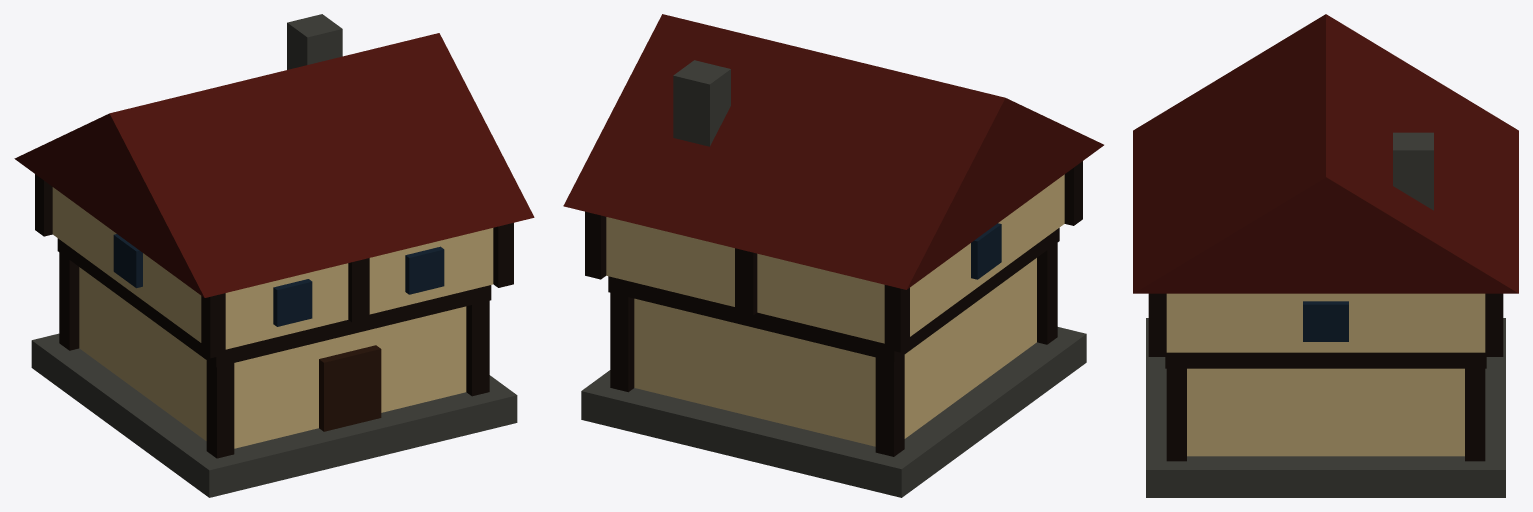
The model's file is house_t2_v1.glb.
The picture shows the model from 3 angles, left to right: view 1: azimuth 30°, elevation 25°; view 2: azimuth 150°, elevation 25°; view 3: azimuth 270°, elevation 25°; orthographic projection. The views are drawn at different scales.
Visible parts, largest first — view 1: house_t2_v1; view 2: house_t2_v1; view 3: house_t2_v1.
Boxes of the visible parts, left/top/right/bottom form: house_t2_v1: left=14, top=14, right=534, bottom=497; house_t2_v1: left=563, top=14, right=1103, bottom=497; house_t2_v1: left=1133, top=14, right=1518, bottom=497.
Bounding box in the file's own units: 0.75 × 0.7 × 0.75.
Materials: 1 (1 with a texture image).
